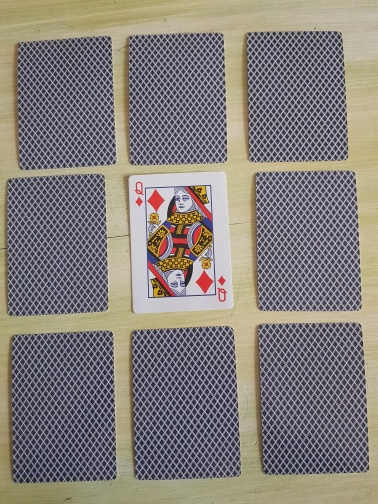queen: (128, 171, 235, 314)
